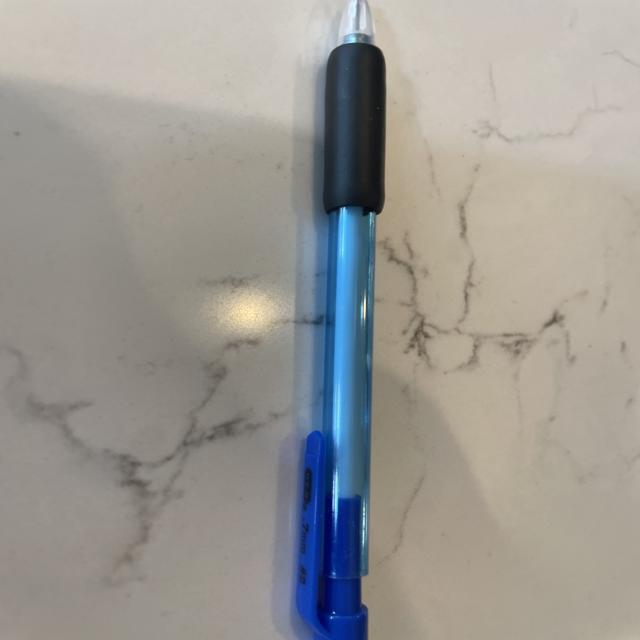mechanical-pencils: (300, 1, 388, 640)
